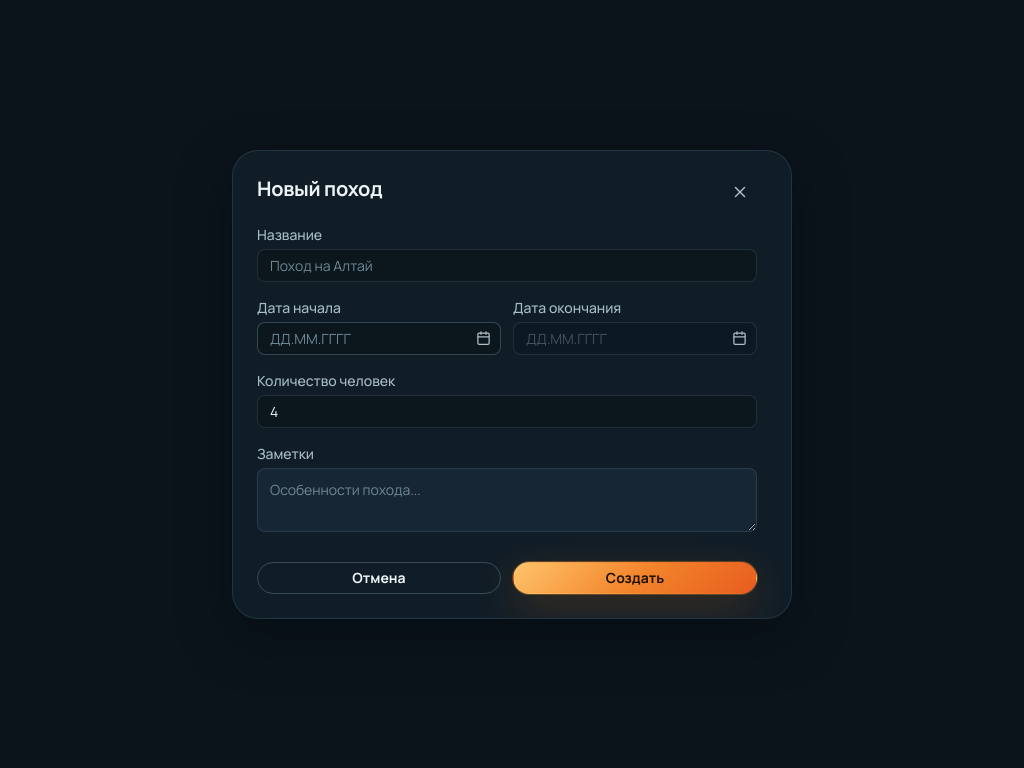
Test case: TripForm — успешный submit с humanize-корректными данными › defaultPeople <= 0 не проходит валидацию (positive)
In the field labelled "Название": point(507, 265) [257,248,757,282], type "Хибин"
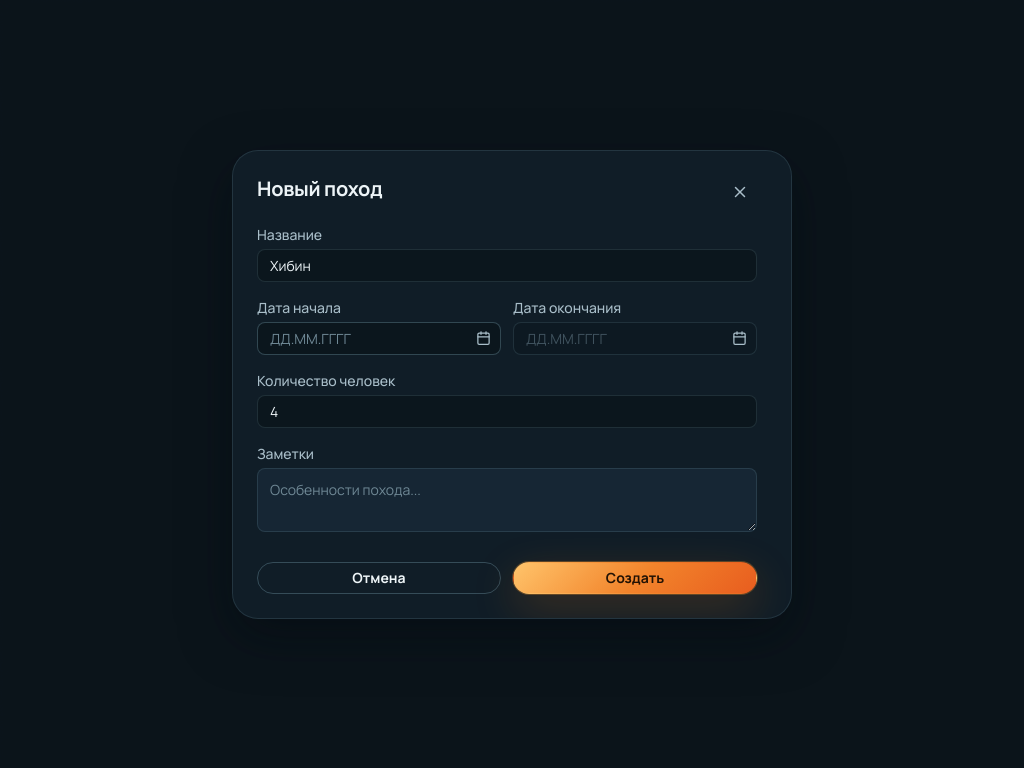
In the field labelled "Дата начала": point(379, 338) [257,322,501,354], type "2026-09-01"
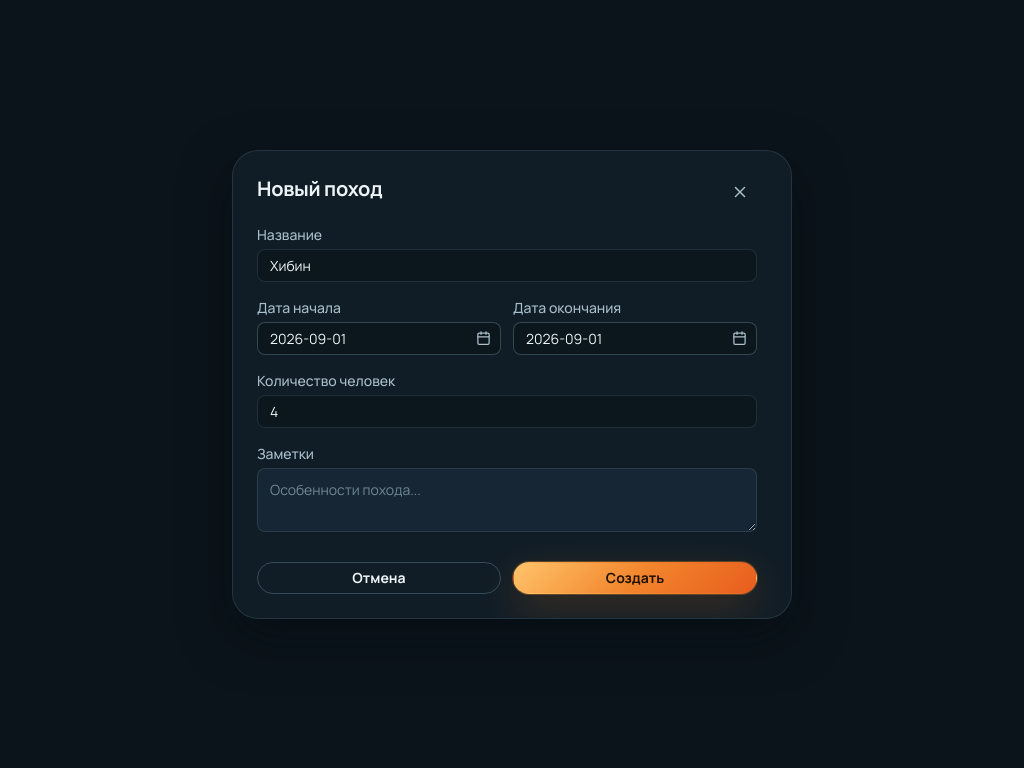
Replace the text in the number field labelled "Количество человек" with "-2": point(507, 411) [257,394,757,428]
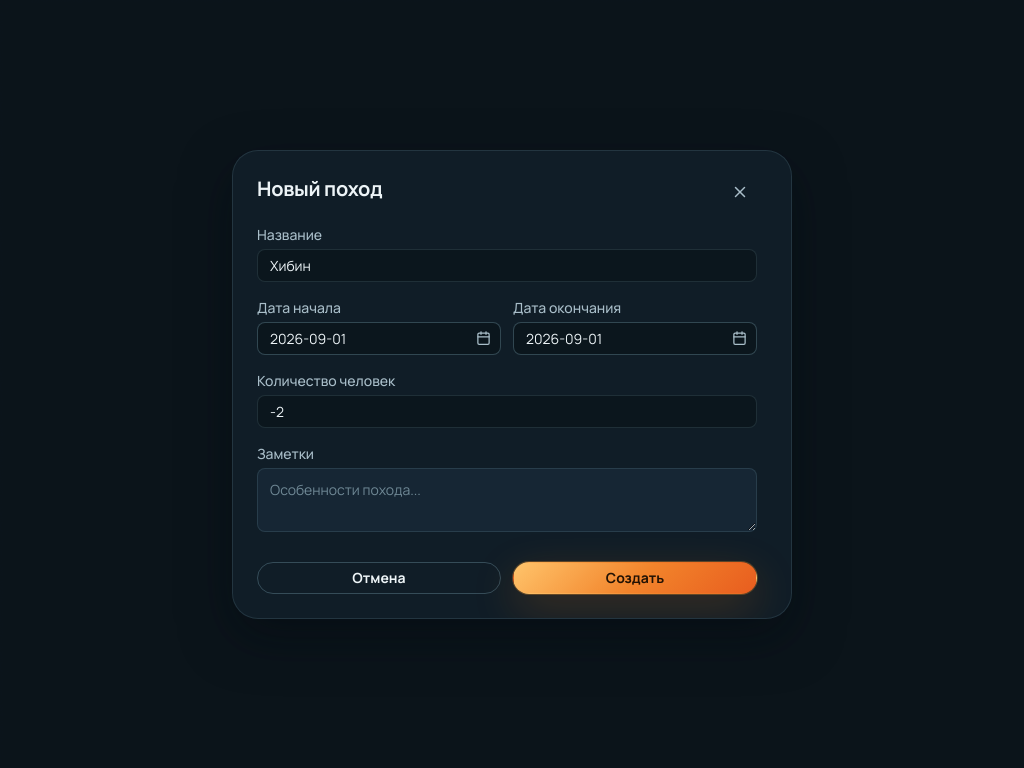
Click the button "Создать": point(635, 578) [513,562,757,594]
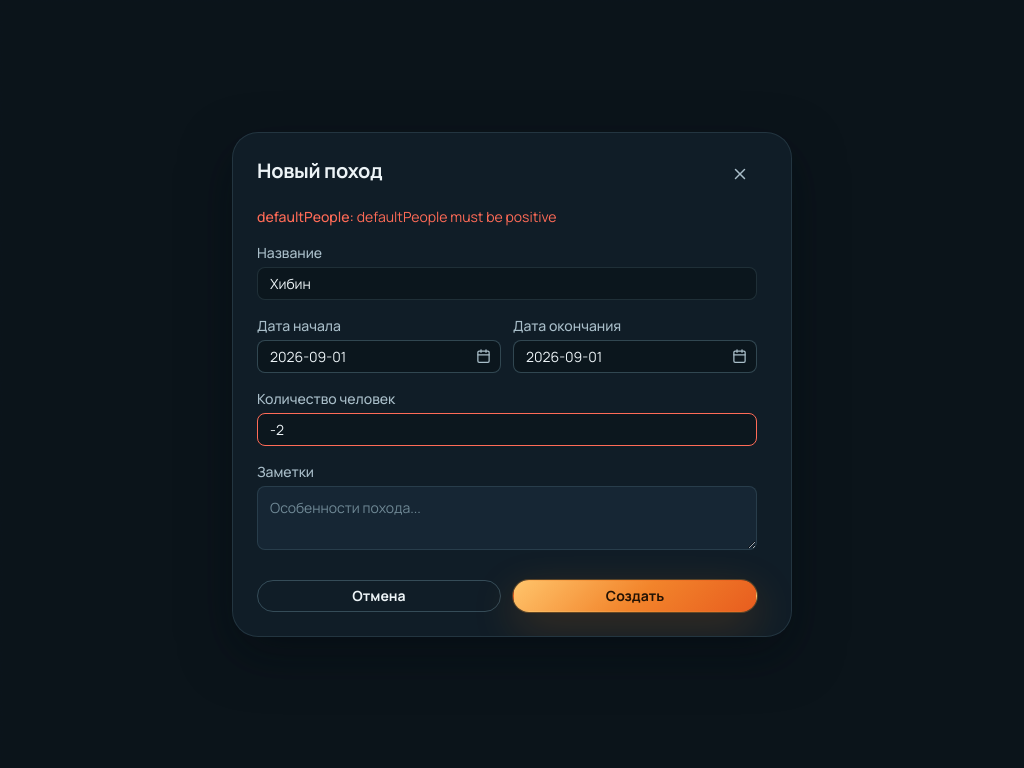
Result: the message shows "defaultPeople" at [257,206,350,226]
